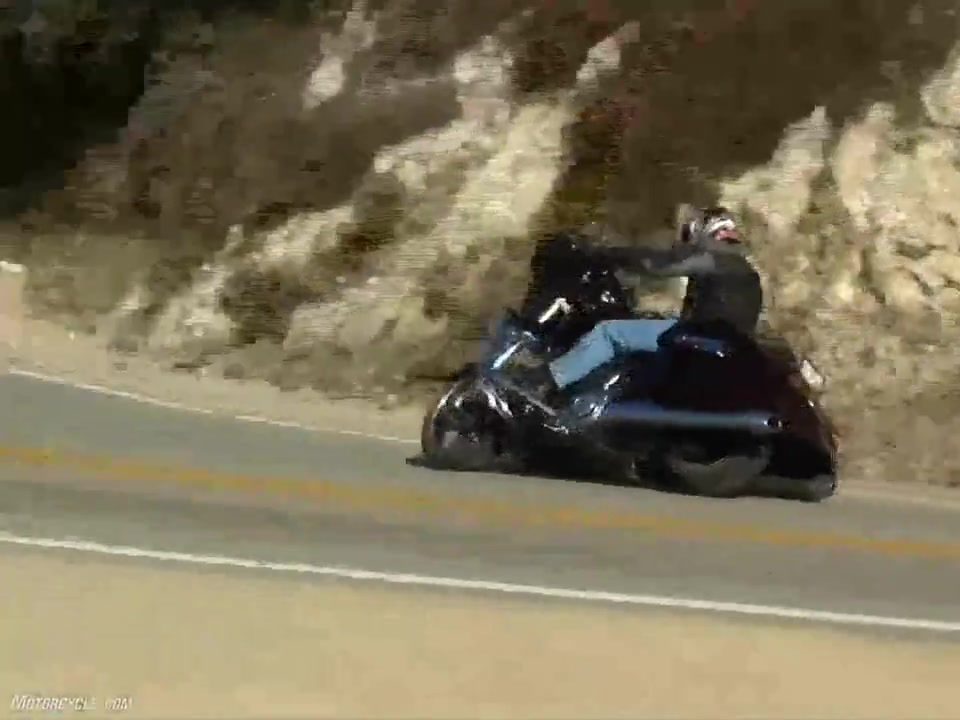motorbike: (420, 235, 838, 505)
